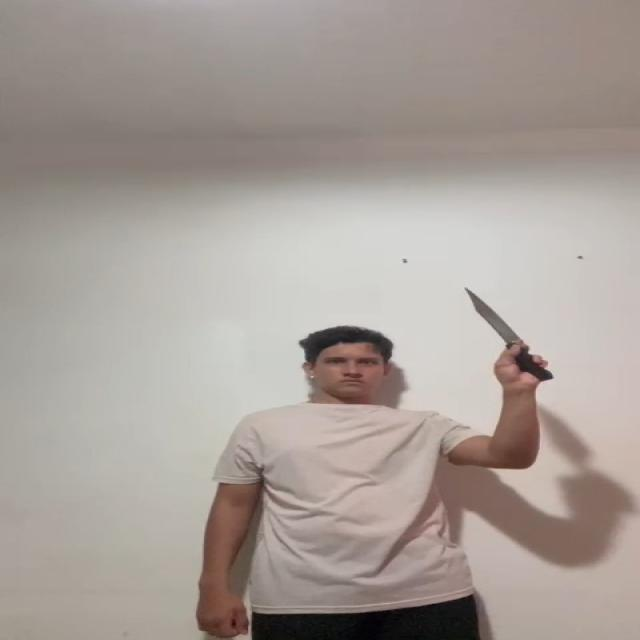knife: (462, 288, 511, 336)
